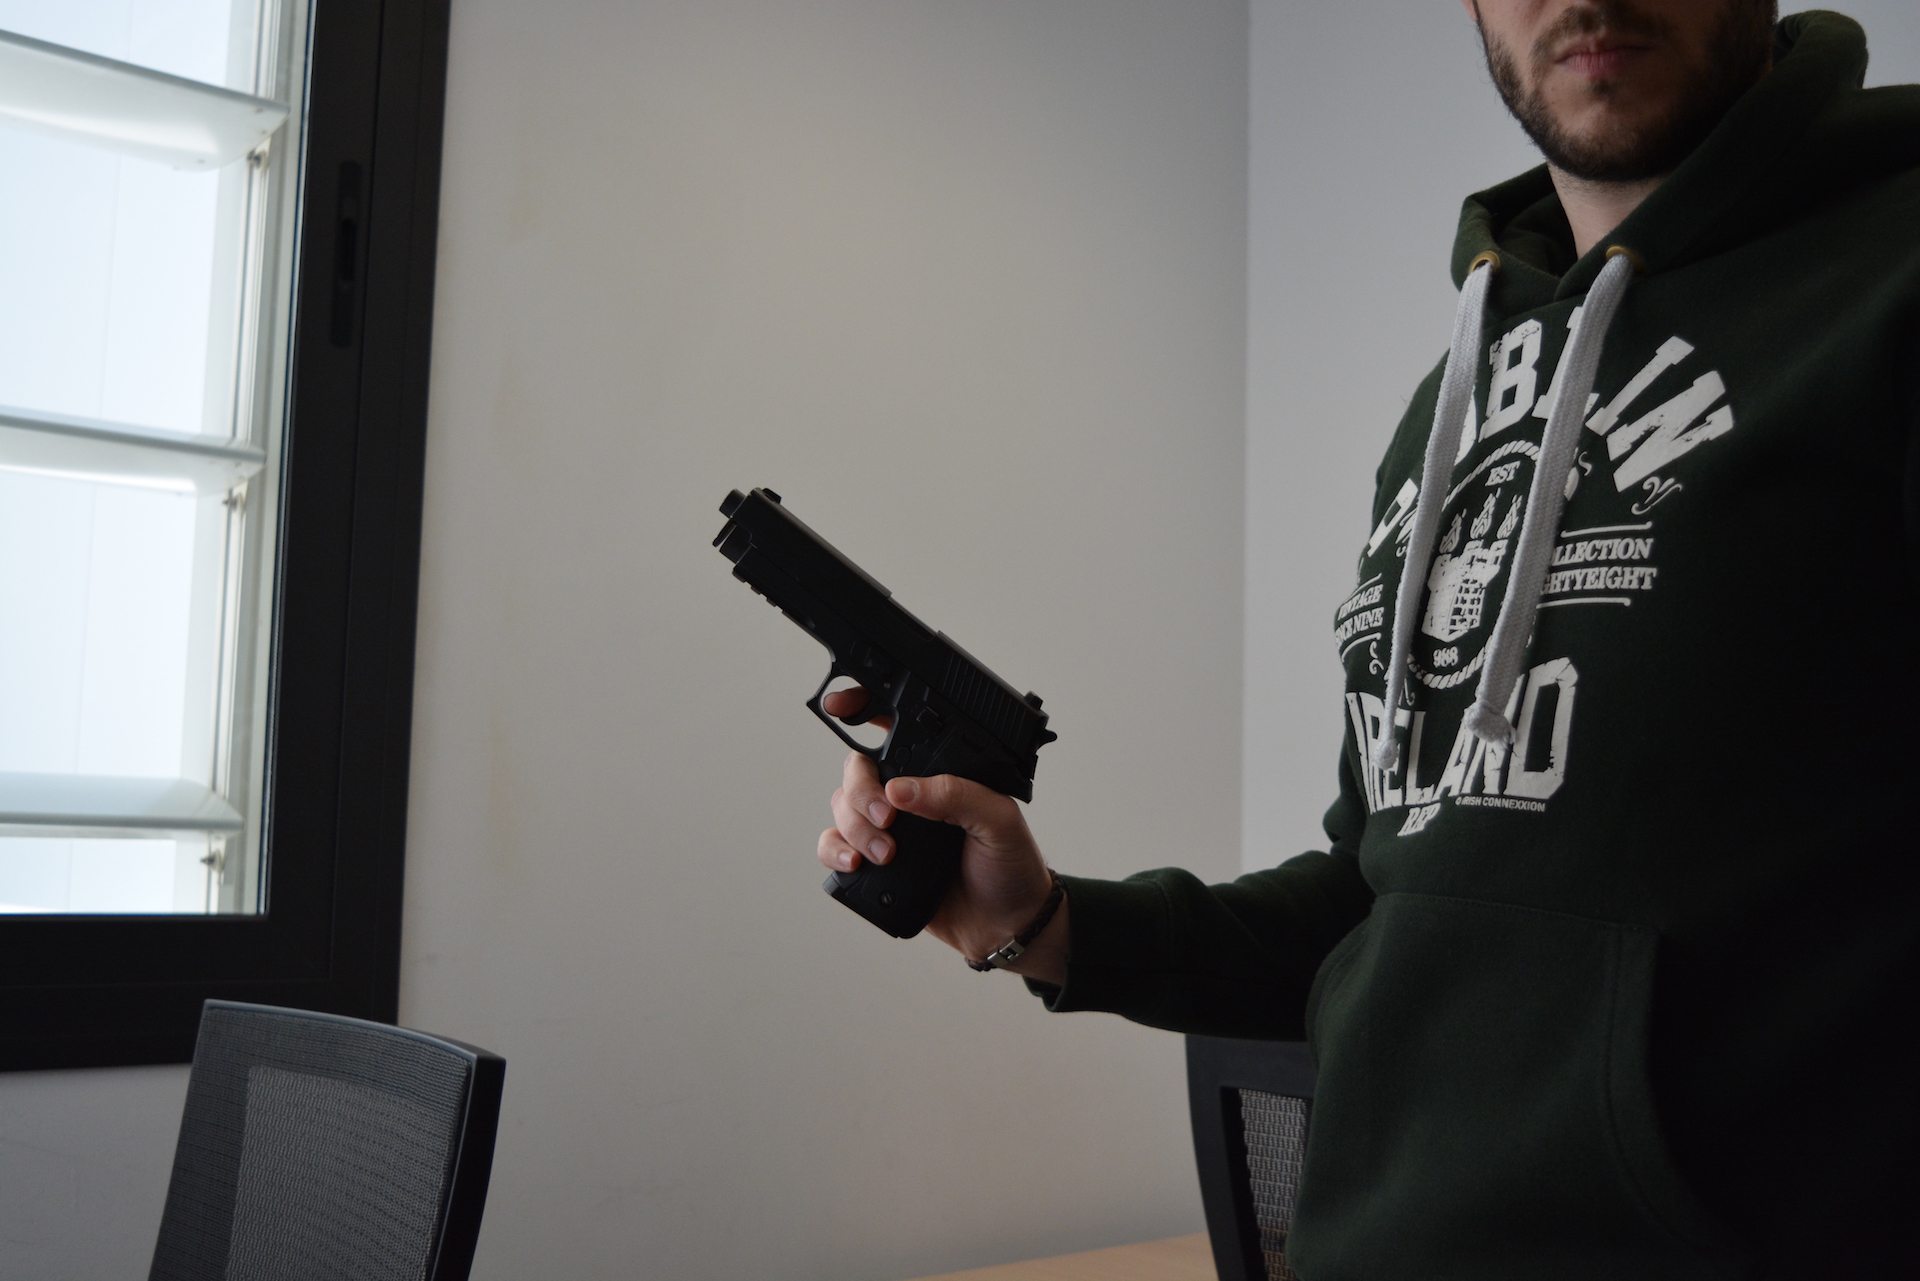pistol: (708, 482, 1061, 942)
